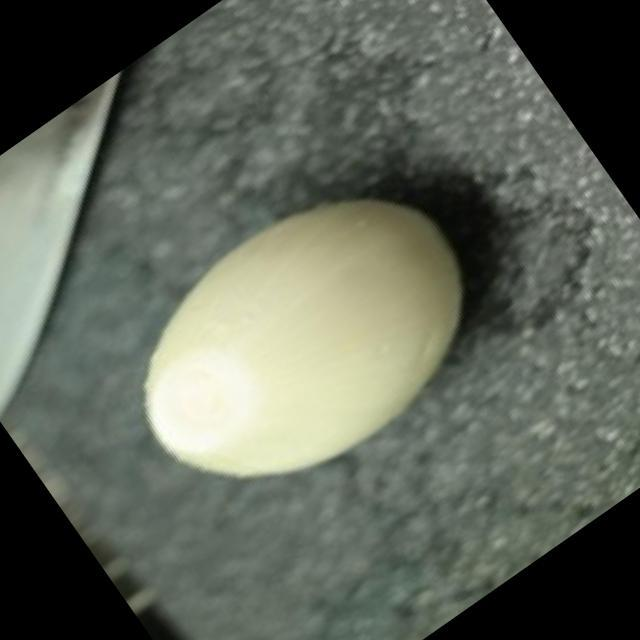Onion: (144, 201, 461, 476)
